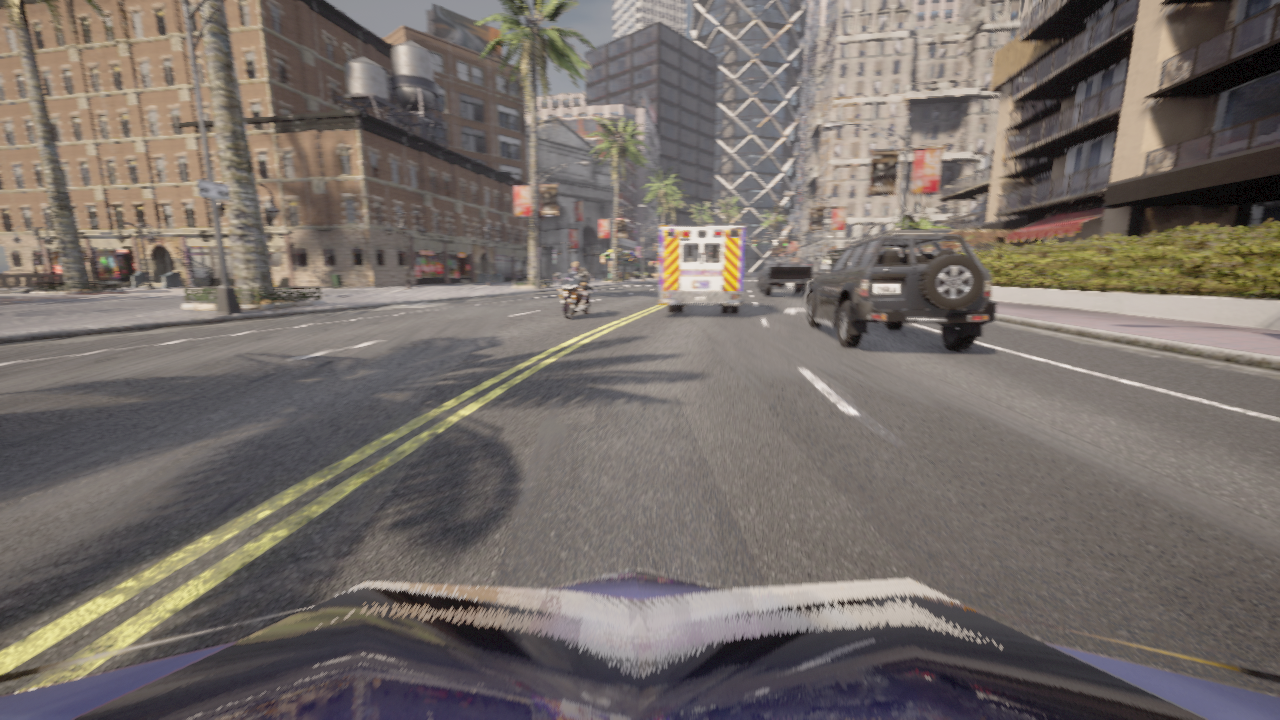cyclist: (0, 569, 1279, 719), (804, 230, 996, 350), (659, 225, 746, 314), (759, 257, 813, 296), (555, 272, 594, 319), (757, 268, 782, 288)
